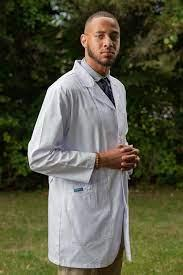lab_coat: (23, 57, 138, 267)
